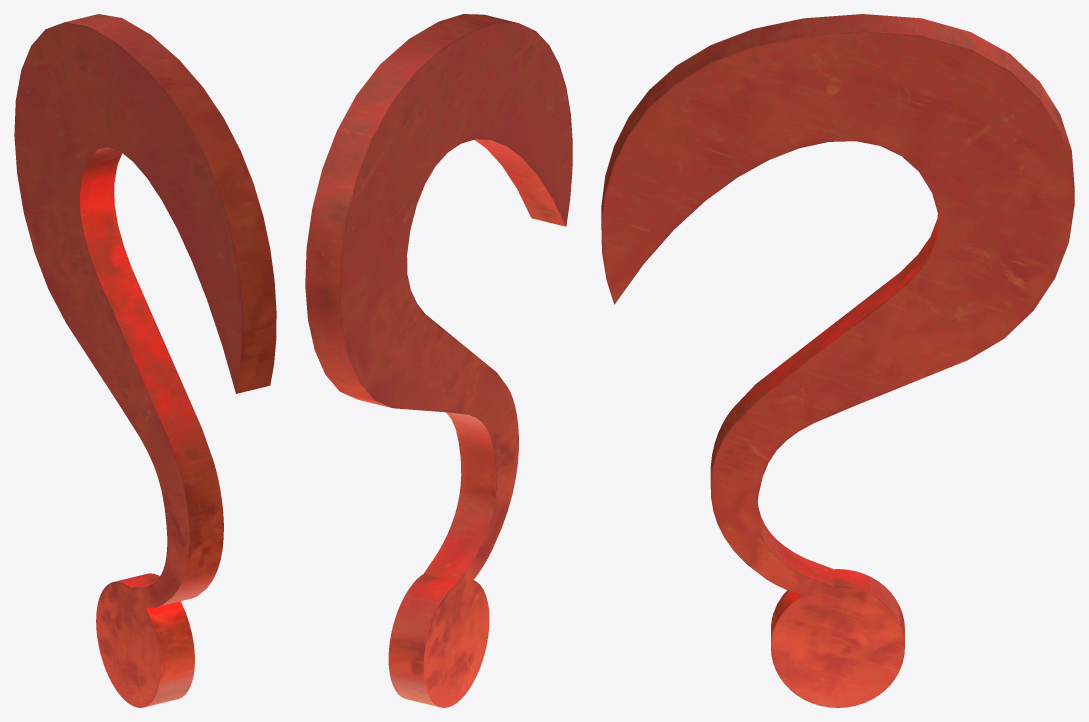
File: Question.glb
3 renders of one model, left to right at view 1: azimuth 30°, elevation 25°; view 2: azimuth 150°, elevation 25°; view 3: azimuth 270°, elevation 25°, orthographic. The views are drawn at different scales.
Visible parts, largest first — view 1: Question 1.001; view 2: Question 1.001; view 3: Question 1.001.
Boxes of the visible parts, x1,y1,x2,y2 form: Question 1.001: [14, 14, 276, 707]; Question 1.001: [305, 14, 572, 707]; Question 1.001: [601, 14, 1074, 707].
Size of the model in its own units: 0.0319 by 0.5798 by 0.3675.
1 material, 1 textured.
